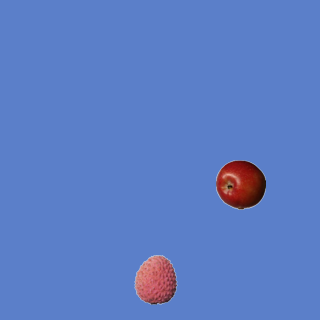Apple Braeburn: (215, 159, 265, 209)
Lychee: (130, 254, 180, 304)
